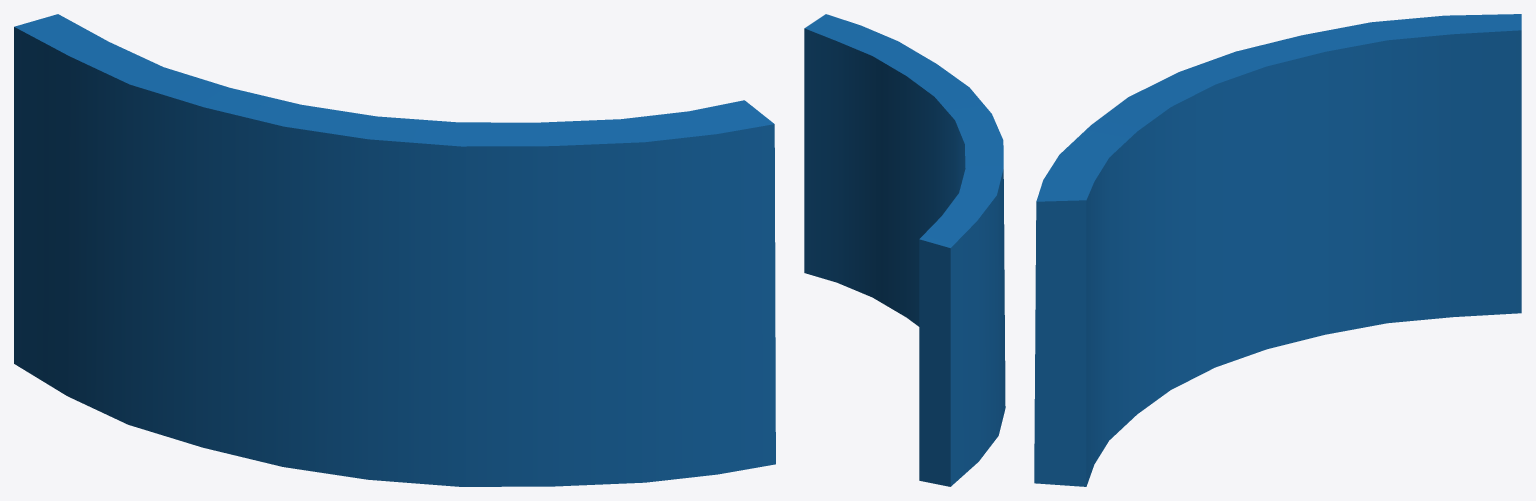
The model's file is Edge_Turn_90_03.fbx.
3 renders of one model, left to right at view 1: azimuth 30°, elevation 25°; view 2: azimuth 150°, elevation 25°; view 3: azimuth 270°, elevation 25°, orthographic. The views are drawn at different scales.
Parts seen in each view (by area): view 1: Edge_Turn_90_03; view 2: Edge_Turn_90_03; view 3: Edge_Turn_90_03.
Boxes of the visible parts, x1,y1,x2,y2 form: Edge_Turn_90_03: (14, 14, 775, 486); Edge_Turn_90_03: (804, 14, 1005, 486); Edge_Turn_90_03: (1034, 14, 1521, 486).
Size of the model in its own units: 4.16 by 2.93 by 4.52.
